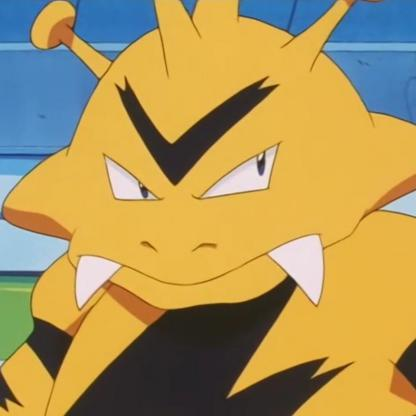Electabuzz: (27, 1, 416, 416)
